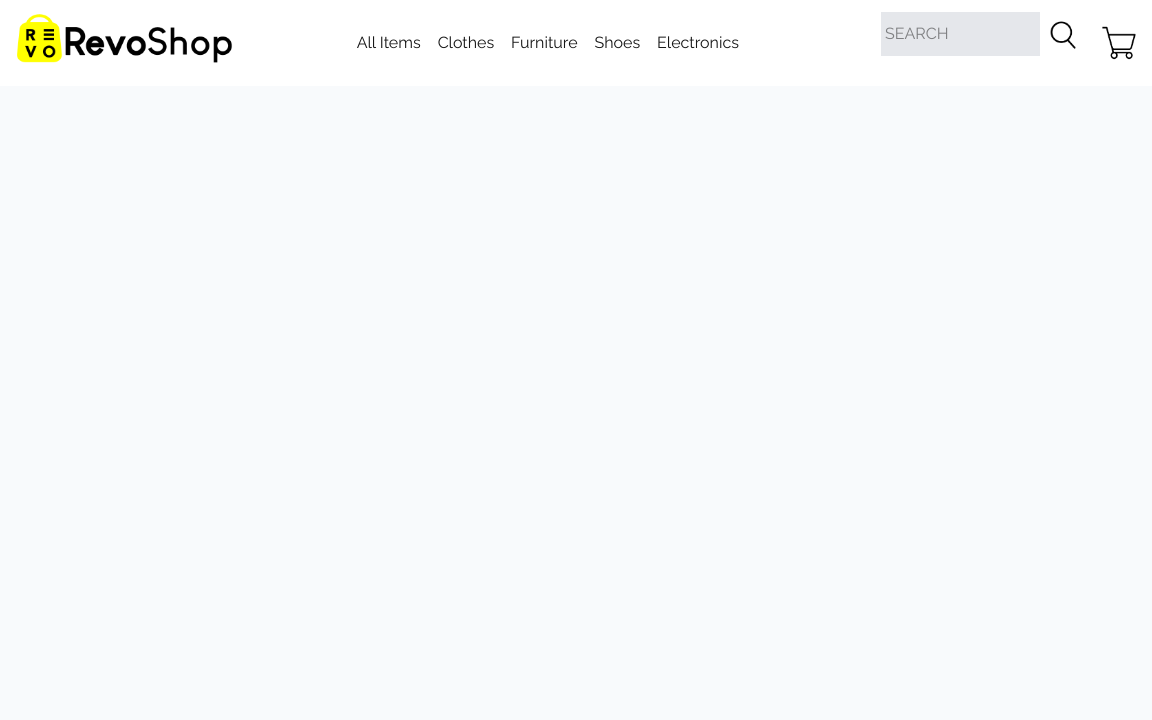
Test: Header › cart open when click CART button
open cart
Click the button with test id "cart" at (1119, 43), box [1098,12,1140,75]
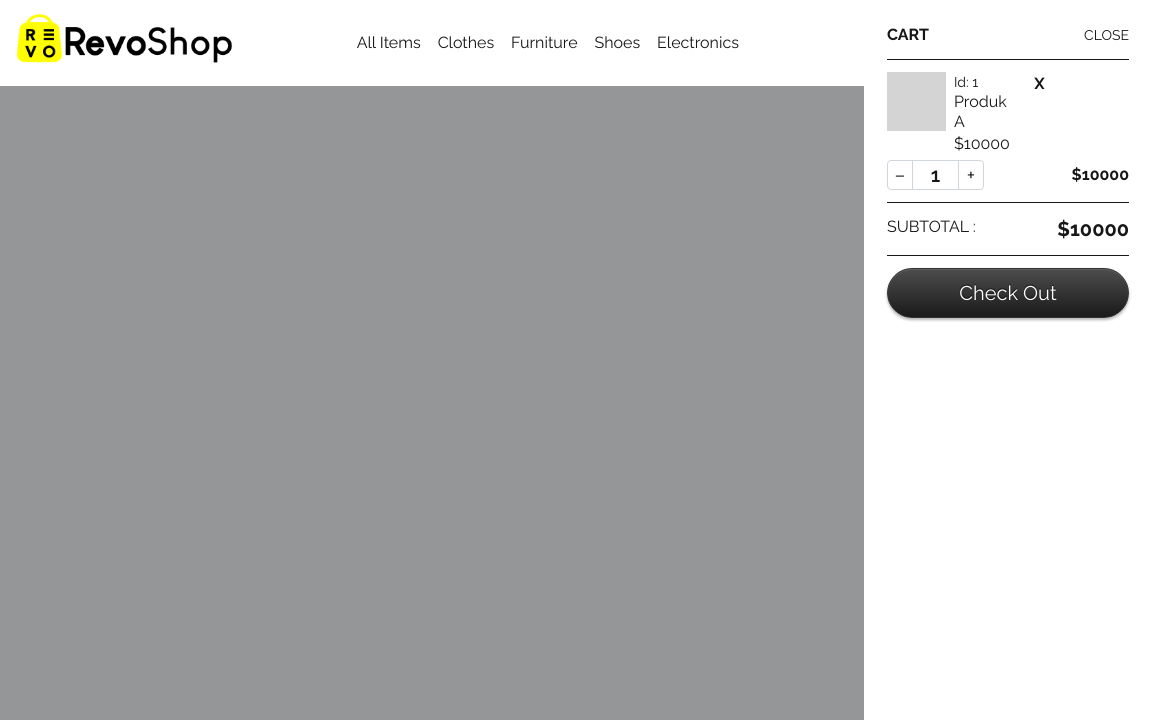
Expected: the element with test id "cart-backdrop" is shown
